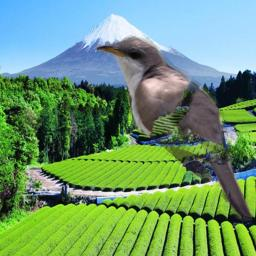Cuckoo: (92, 33, 252, 224)
